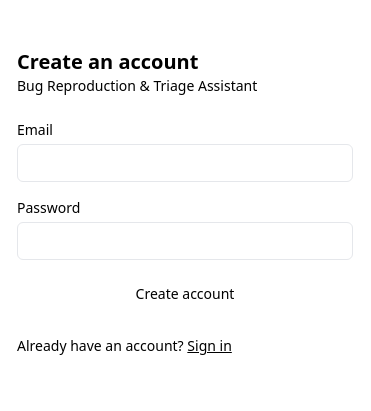
Test: Register › shows "Account already exists" when the server returns 409
This screenshot has width=371, height=411.
Type "taken@example.com" into the field labelled "Email" at (185,163), box top-left (17, 144), bottom-right (353, 182)
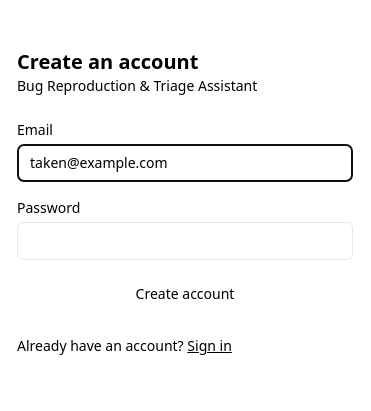
Type "correct-horse-battery-staple" into the password field labelled "Password" at (185,241), box top-left (17, 222), bottom-right (353, 260)
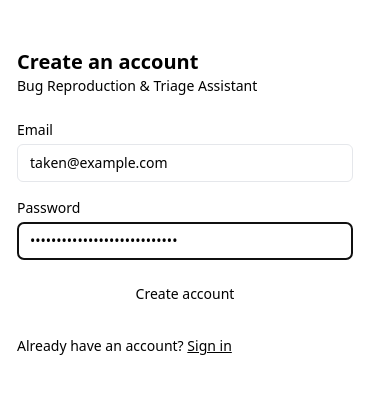
Click the button "Create account" at (185,294), box top-left (17, 276), bottom-right (353, 312)
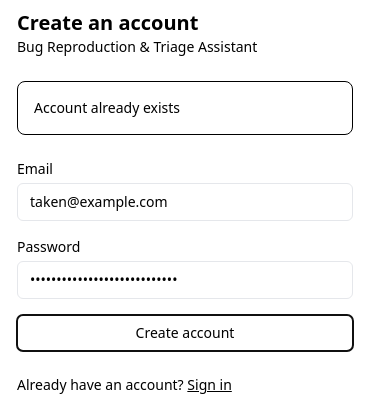
Check: the text "Account already exists" is shown, box top-left (17, 81), bottom-right (353, 135)
